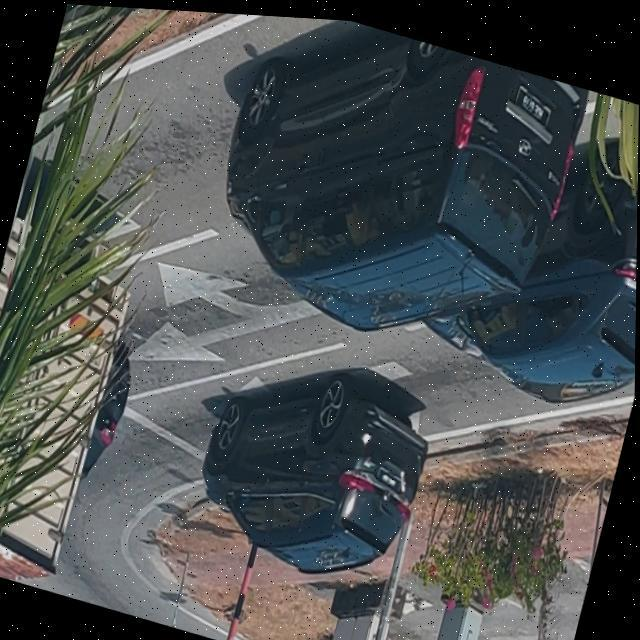truck: (0, 195, 143, 595)
